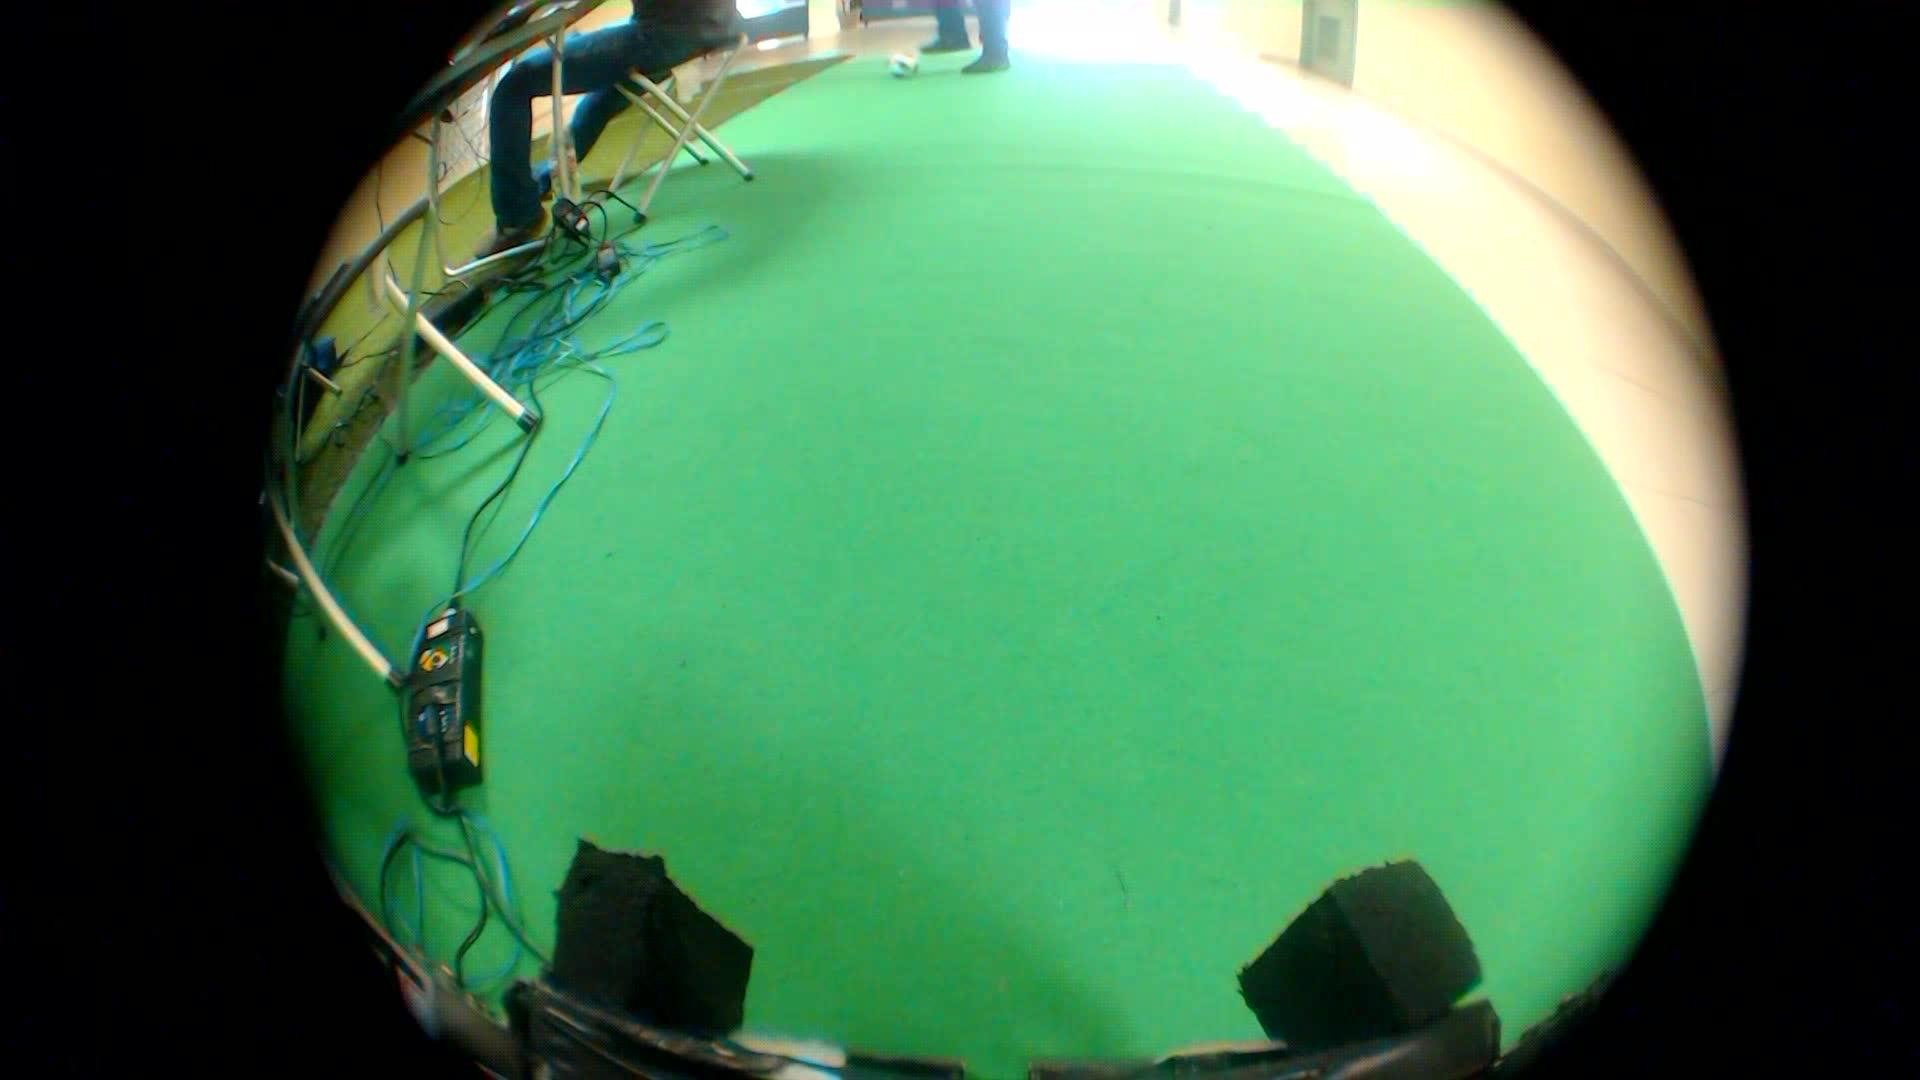ball: (887, 45, 930, 91)
